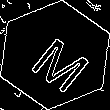M_NE: (19, 21, 91, 89)
